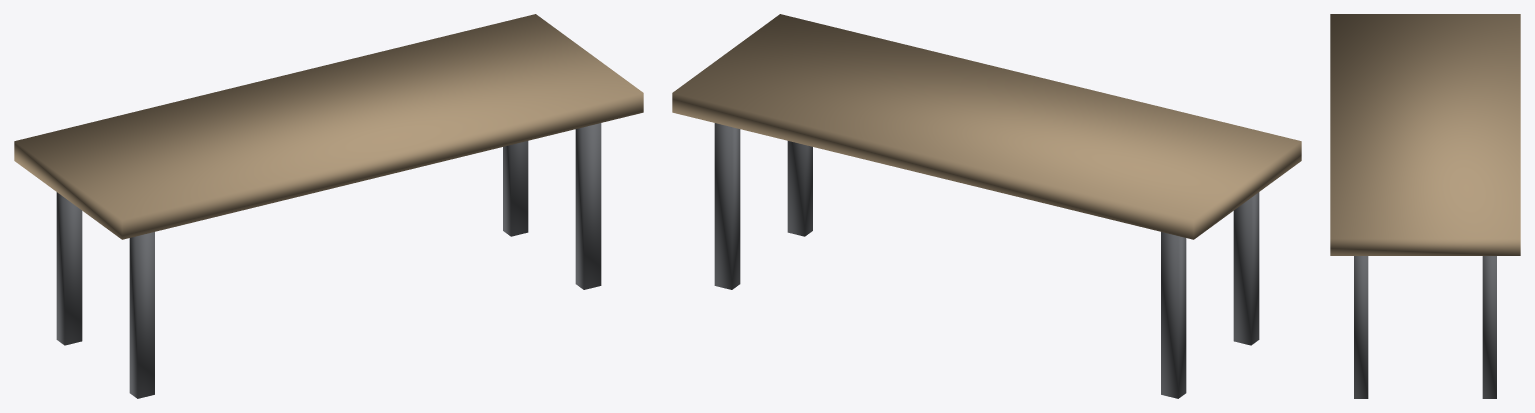
File: library_reading_table__wide.glb
The picture shows the model from 3 angles, left to right: view 1: azimuth 30°, elevation 25°; view 2: azimuth 150°, elevation 25°; view 3: azimuth 270°, elevation 25°; orthographic projection. The views are drawn at different scales.
Parts seen in each view (by area): view 1: world; view 2: world; view 3: world.
Part boxes in pixels (x1,y1,x2,y2): world: (14, 14, 643, 398); world: (672, 14, 1301, 398); world: (1330, 14, 1520, 398).
Size of the model in its own units: 2.23 by 0.8 by 0.8.
